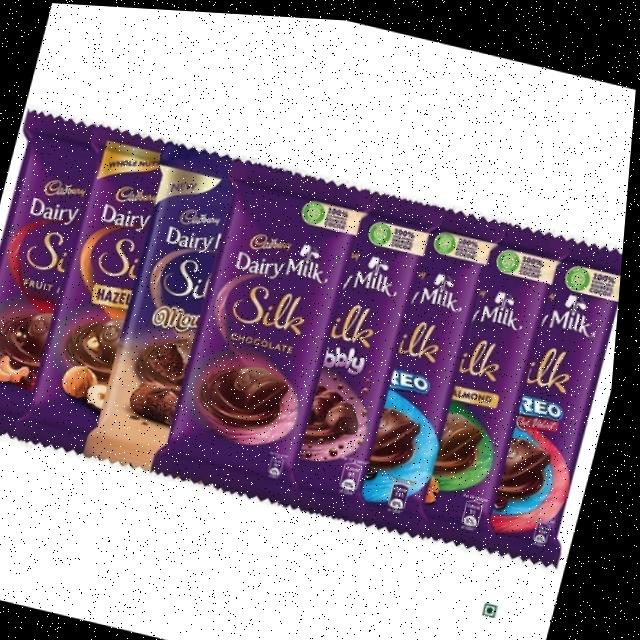cadbury: (160, 153, 379, 513)
